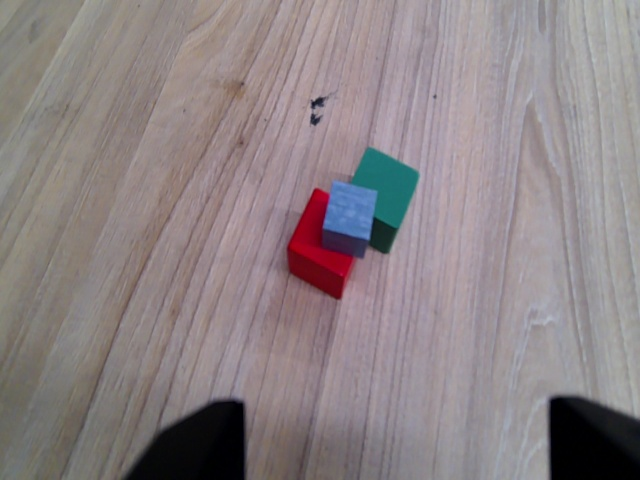stone: (316, 173, 380, 262)
